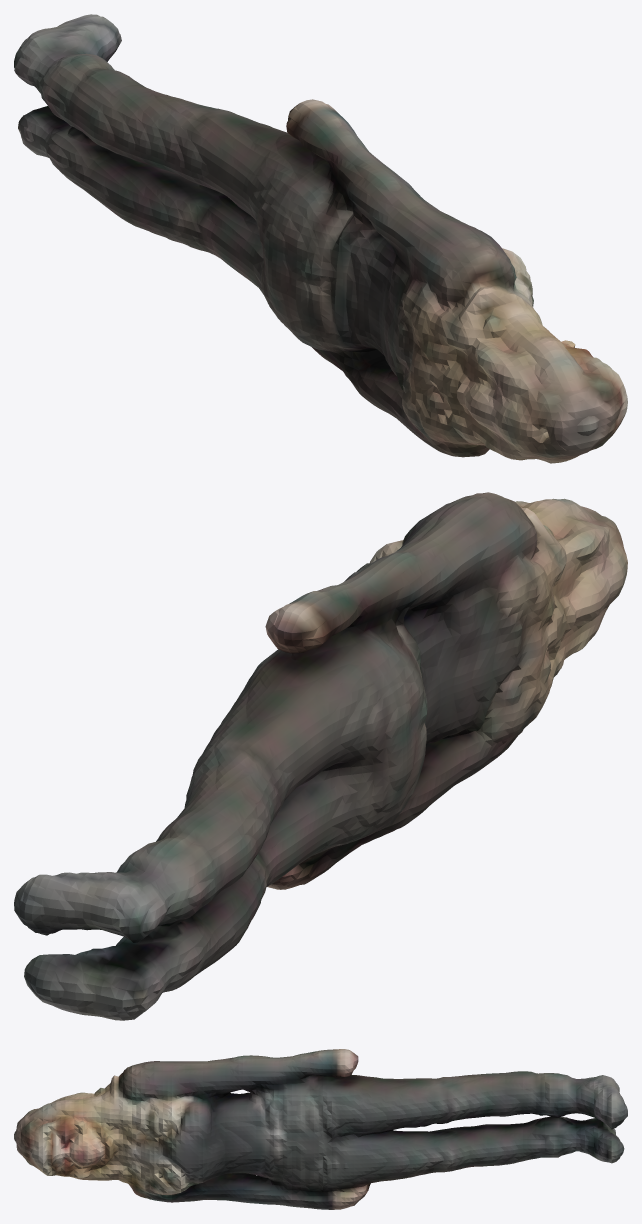
Rendered from avatar.glb.
3 renders of one model, top to bottom at view 1: azimuth 30°, elevation 25°; view 2: azimuth 150°, elevation 25°; view 3: azimuth 270°, elevation 25°, orthographic. The views are drawn at different scales.
Parts seen in each view (by area): view 1: world; view 2: world; view 3: world.
Boxes of the visible parts, box(x1,y1,x2,y2) form: world: box(14, 14, 627, 463); world: box(14, 492, 627, 1020); world: box(14, 1049, 627, 1209).
Size of the model in its own units: 0.1931 by 0.2592 by 0.943.
